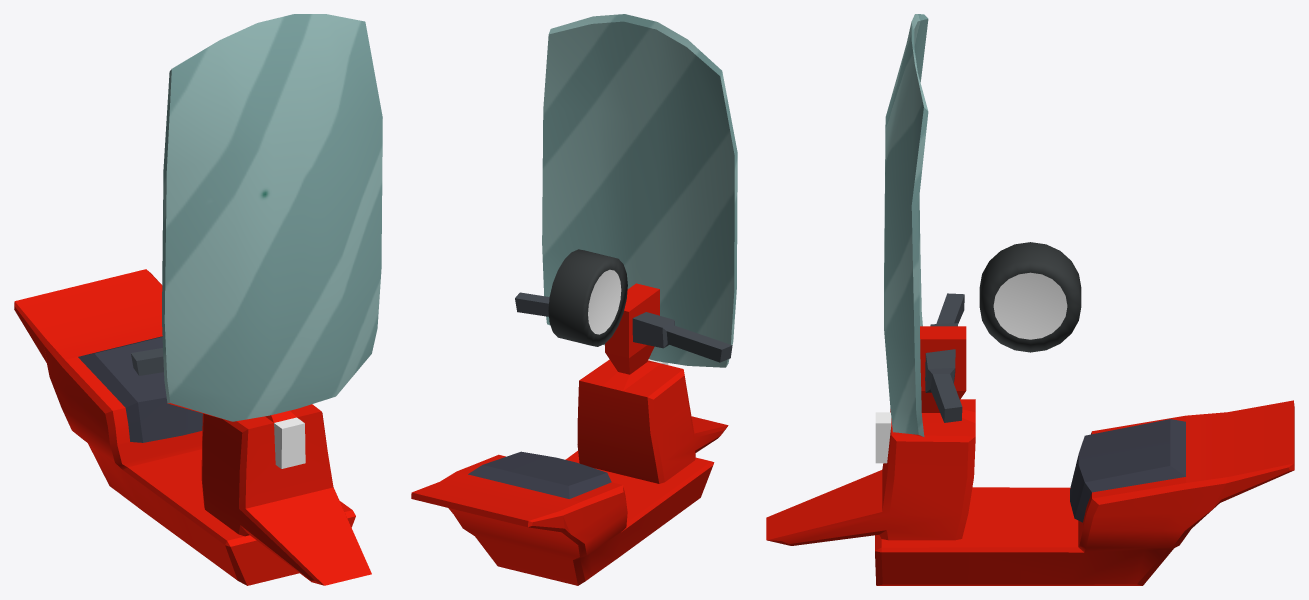
File: scooter 2 red.fbx
3 views of the same model, side by side, from view 1: azimuth 30°, elevation 25°; view 2: azimuth 150°, elevation 25°; view 3: azimuth 270°, elevation 25° (orthographic). The views are drawn at different scales.
Visible parts, largest first — view 1: scooter_2_red; view 2: scooter_2_red, scooter_2_red_wheel; view 3: scooter_2_red, scooter_2_red_wheel.
Part boxes in pixels (left/top/right/bottom): scooter_2_red: left=14, top=14, right=382, bottom=585; scooter_2_red: left=411, top=14, right=737, bottom=585; scooter_2_red_wheel: left=548, top=249, right=627, bottom=346; scooter_2_red: left=766, top=14, right=1294, bottom=585; scooter_2_red_wheel: left=979, top=242, right=1081, bottom=352.
Bounding box in the file's own units: 55.02 × 118 × 106.
